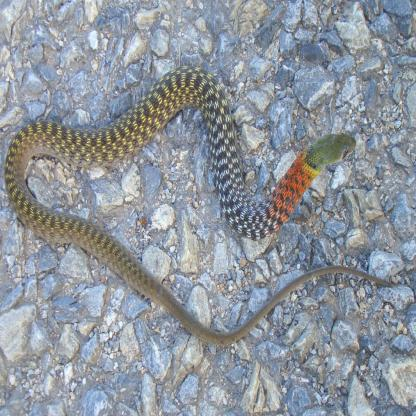snakes: (8, 66, 388, 349)
